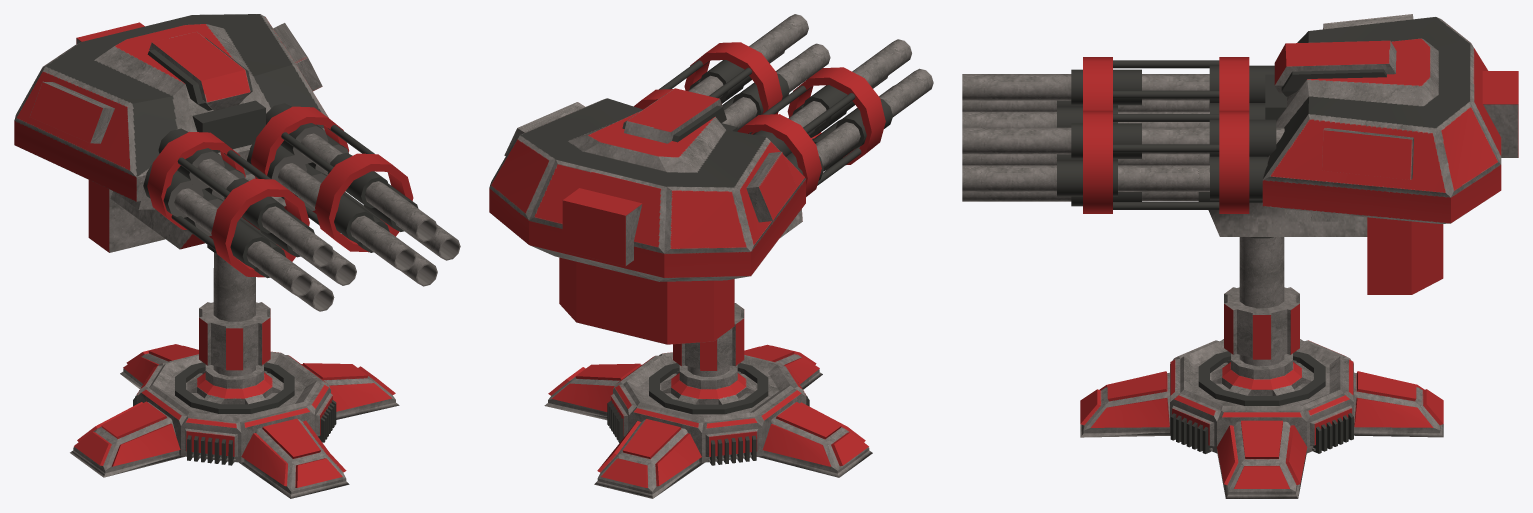
Rendered from Turrel_Level25.fbx.
3 views of the same model, side by side, from view 1: azimuth 30°, elevation 25°; view 2: azimuth 150°, elevation 25°; view 3: azimuth 270°, elevation 25° (orthographic). The views are drawn at different scales.
Visible parts, largest first — view 1: head5, base; view 2: head5, base; view 3: head5, base.
Boxes of the visible parts, <box> form: head5: <box>14,14,460,311</box>; base: <box>70,230,399,498</box>; head5: <box>489,14,933,344</box>; base: <box>544,303,872,498</box>; head5: <box>962,14,1518,294</box>; base: <box>1080,237,1443,498</box>.
Size of the model in its own units: 298 by 335 by 457.
2 materials, 2 textured.
